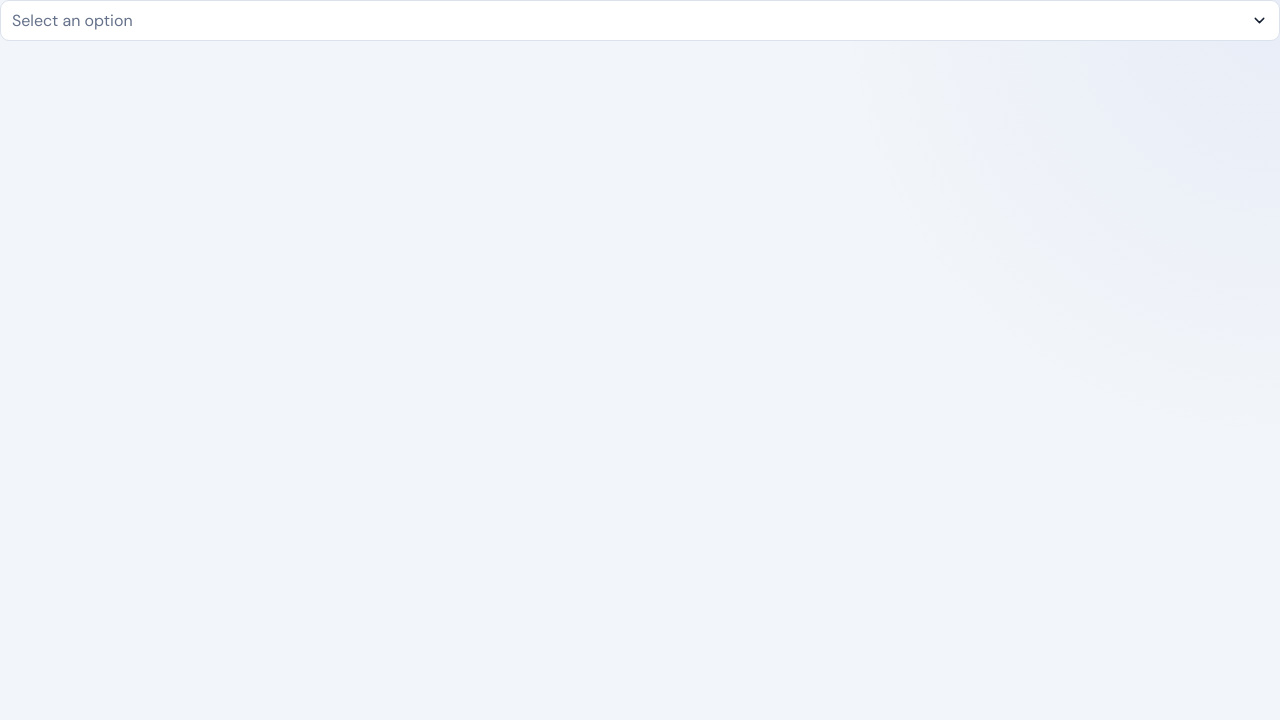
searchable popup select › filters choices and returns the selected value
Later steps or results of the test are not shown.
Click the button "Select an option" at (72, 20), box x1=0 y1=0 x2=1279 y2=41
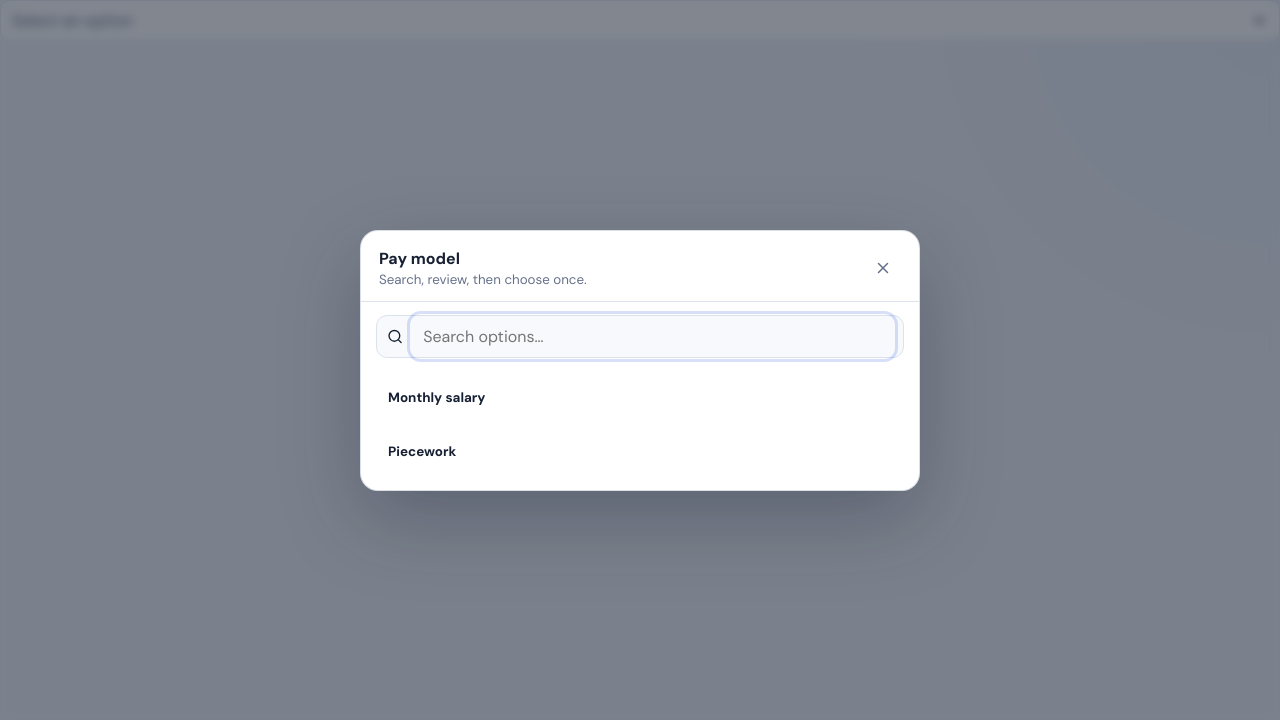
Type "piece" into the field named "Search Pay model" at (653, 336), box x1=412 y1=316 x2=893 y2=356
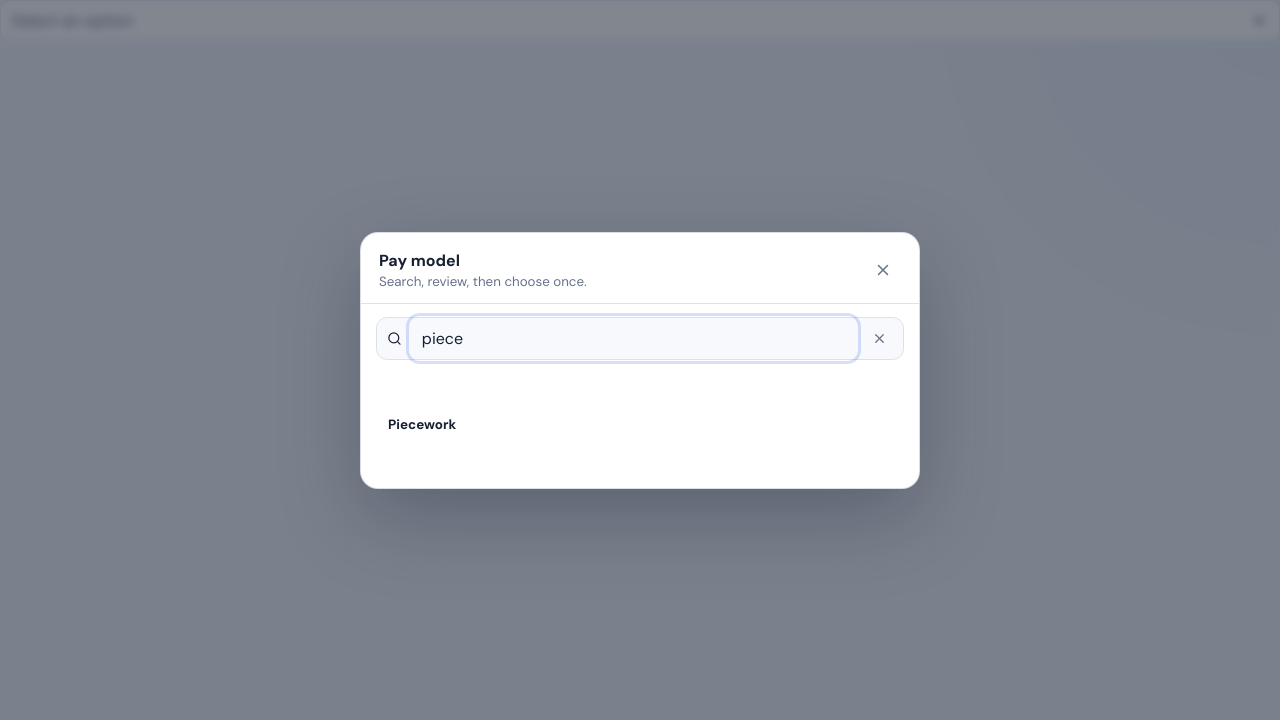
Result: the option "Monthly salary" is gone
